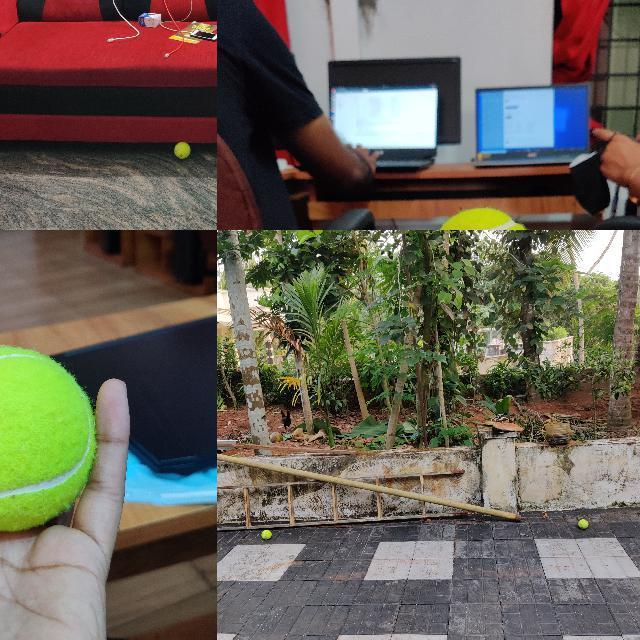tennis-ball: (0, 346, 95, 530), (428, 208, 536, 229), (174, 142, 191, 159), (578, 519, 589, 529), (261, 529, 271, 539)
